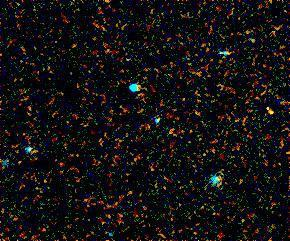star: (257, 94, 287, 124)
